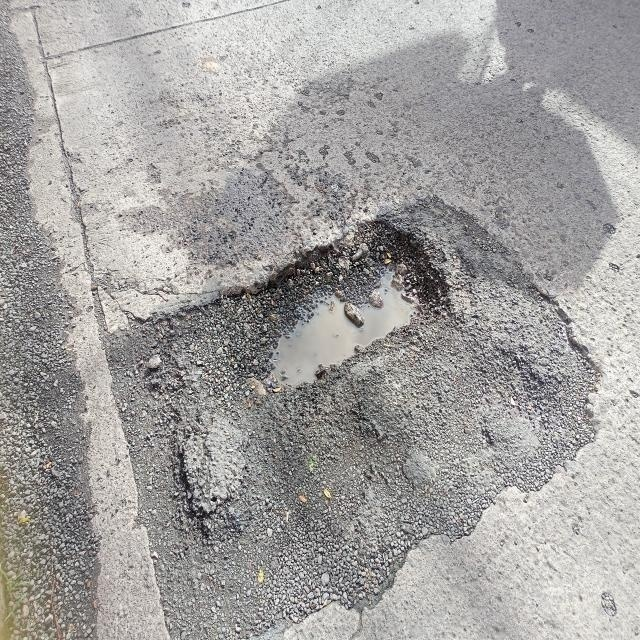pothole: (228, 236, 450, 382)
